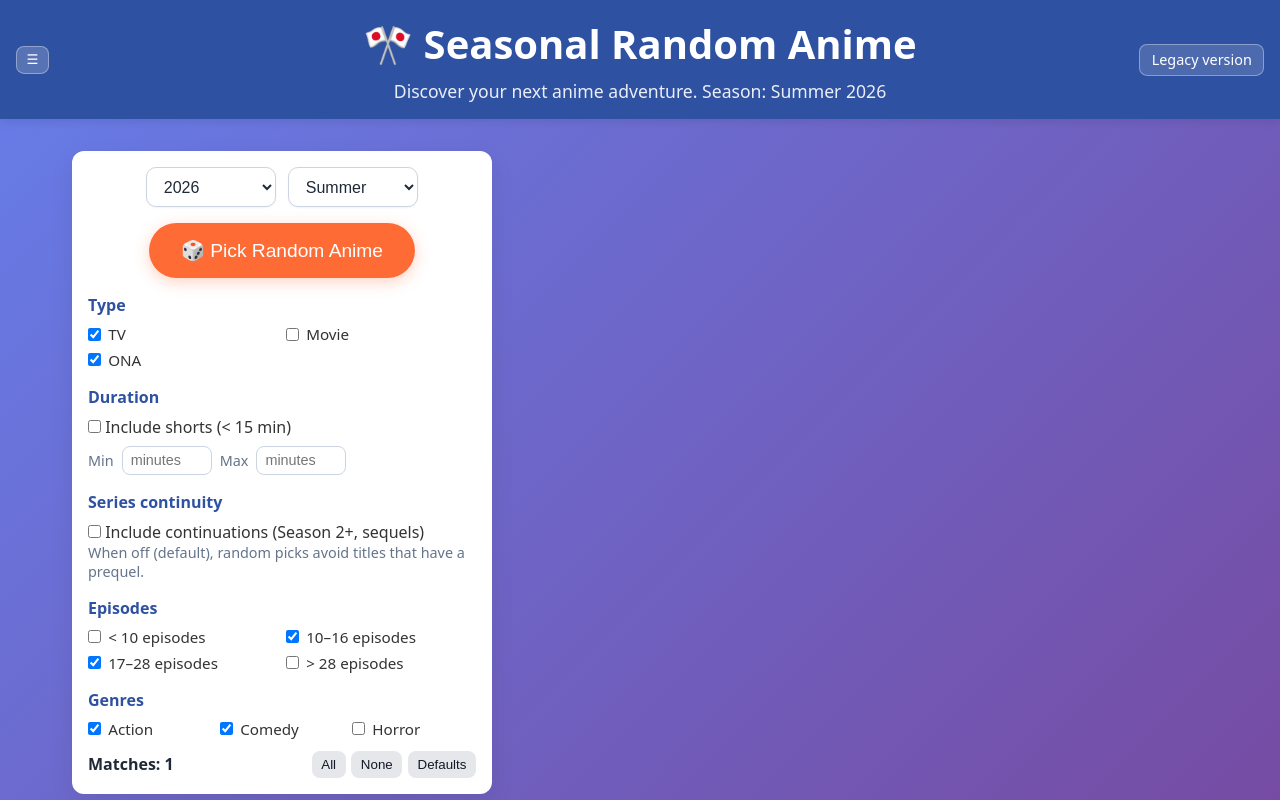
Test: App (functional) › applies duration bounds from the inputs
Click the button "All". click: (329, 764)
box: x1=312 y1=751 x2=346 y2=778
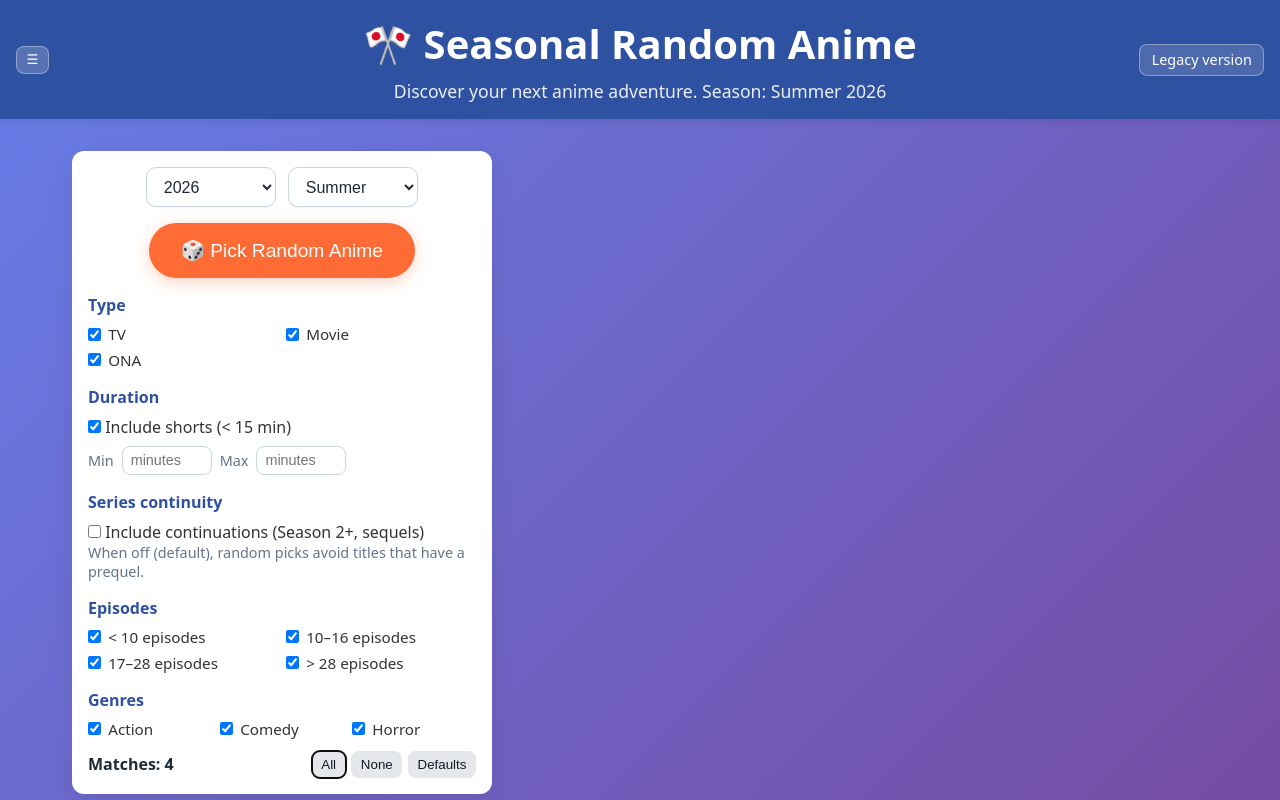
Type "10" into the number field labelled "Min". click: (167, 460)
box: x1=122 y1=446 x2=212 y2=475
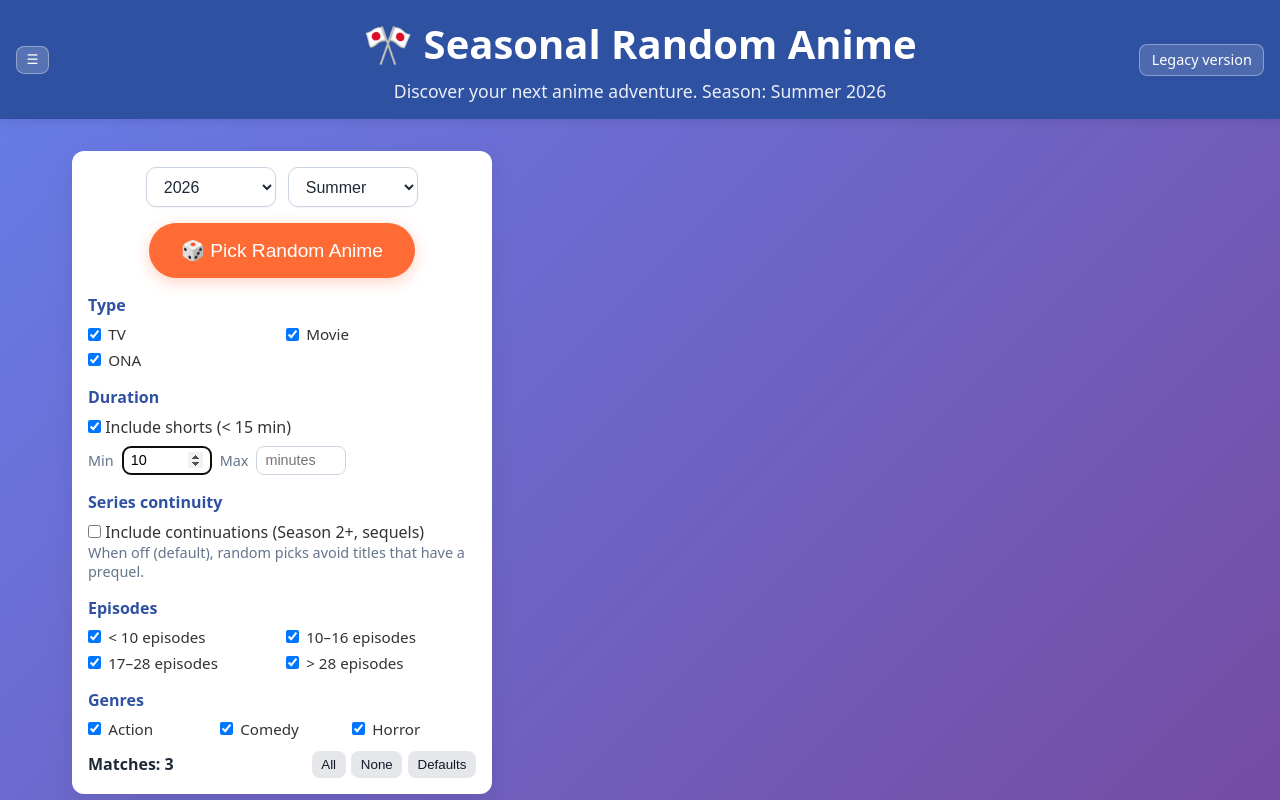
Check: the text with test id "match-count" reads "3", box x1=165 y1=754 x2=174 y2=776
Type "20" into the number field labelled "Max". click: (301, 460)
box: x1=256 y1=446 x2=346 y2=475
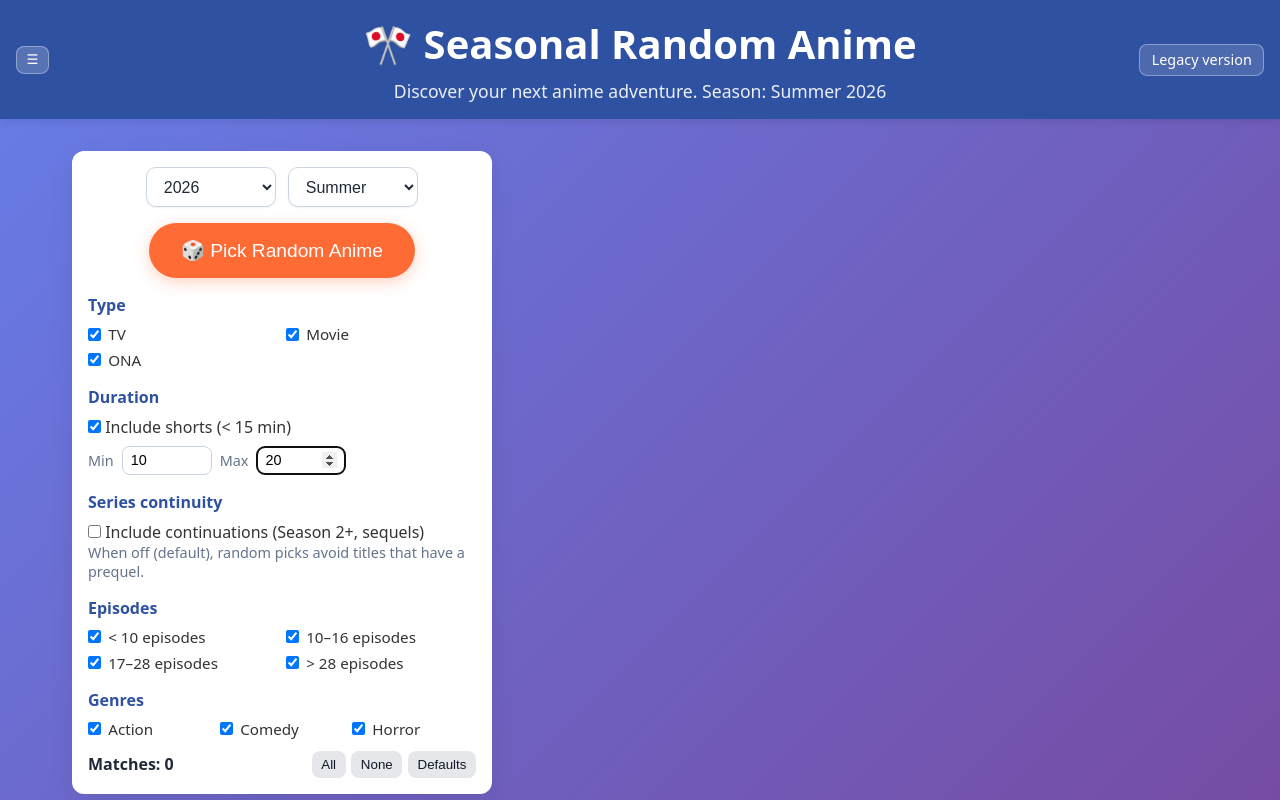
Check: the text with test id "match-count" reads "0", box x1=165 y1=754 x2=174 y2=776
